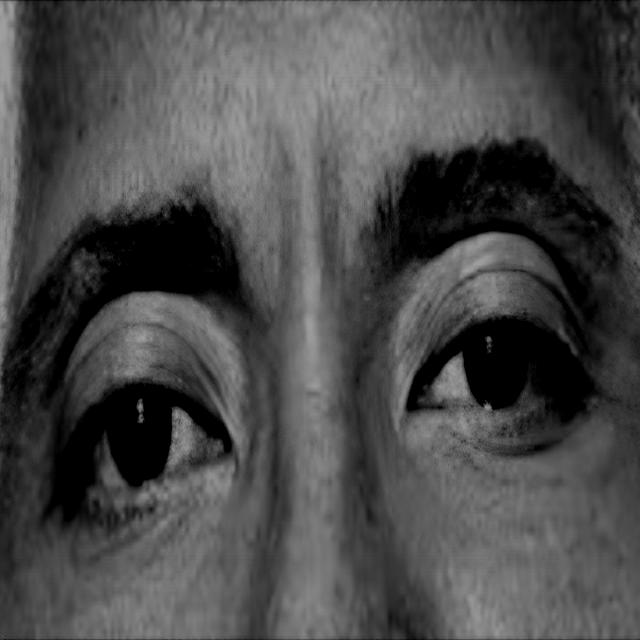real: (20, 130, 628, 590)
